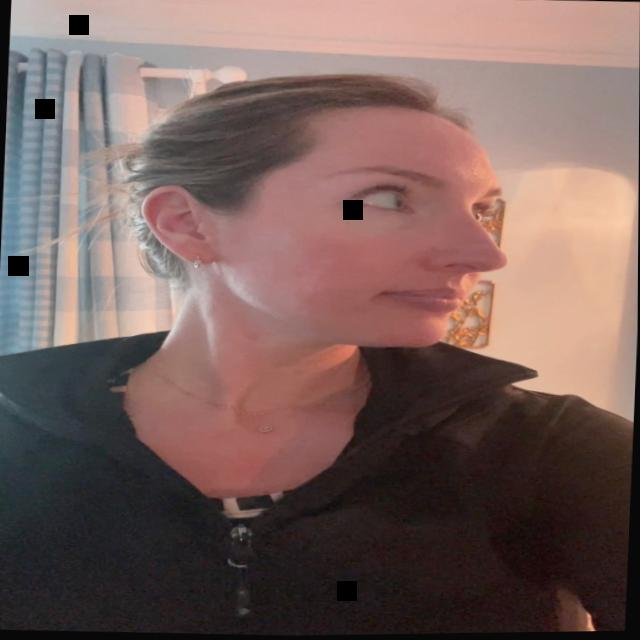NO-Mask: (151, 77, 508, 368)
